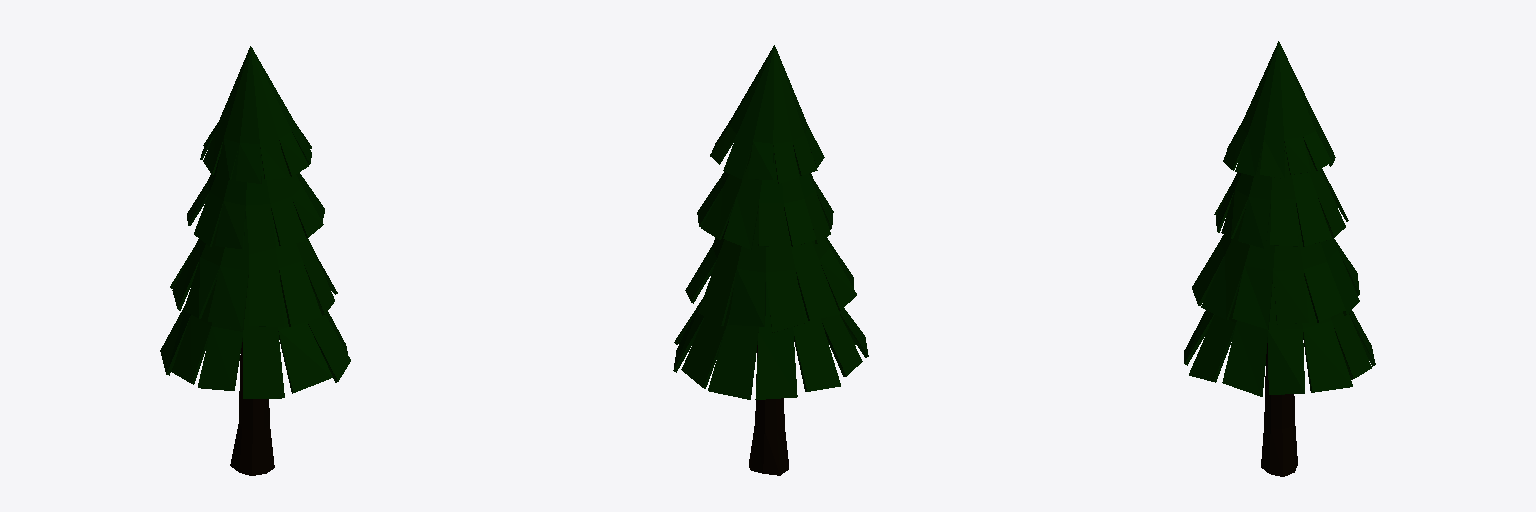
The model's file is mytree5.obj.
The picture shows the model from 3 angles: view 1: azimuth 30°, elevation 25°; view 2: azimuth 150°, elevation 25°; view 3: azimuth 270°, elevation 25°; orthographic projection.
Parts seen in each view (by area): view 1: Tree3_3_Cylinder.024; view 2: Tree3_3_Cylinder.024; view 3: Tree3_3_Cylinder.024.
Part boxes in pixels (x1,y1,x2,y2): Tree3_3_Cylinder.024: (160,46,350,475); Tree3_3_Cylinder.024: (673,45,868,475); Tree3_3_Cylinder.024: (1184,41,1375,476).
Bounding box in the file's own units: 5.83 × 14.51 × 5.93.